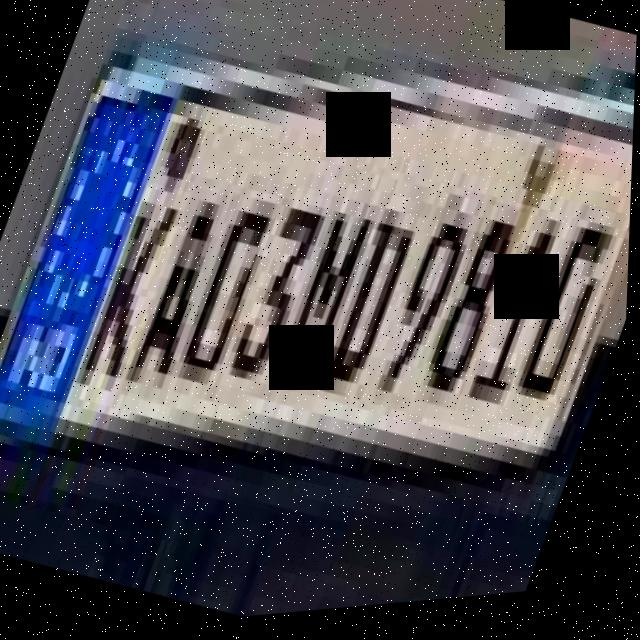0: (173, 194, 283, 403), (517, 211, 630, 413)
1: (466, 214, 575, 423)
3: (223, 193, 335, 403)
8: (416, 206, 531, 423)
9: (369, 212, 481, 419)
A: (122, 187, 238, 407)
D: (320, 207, 431, 407)
K: (71, 182, 192, 413)
M: (269, 199, 385, 416)
